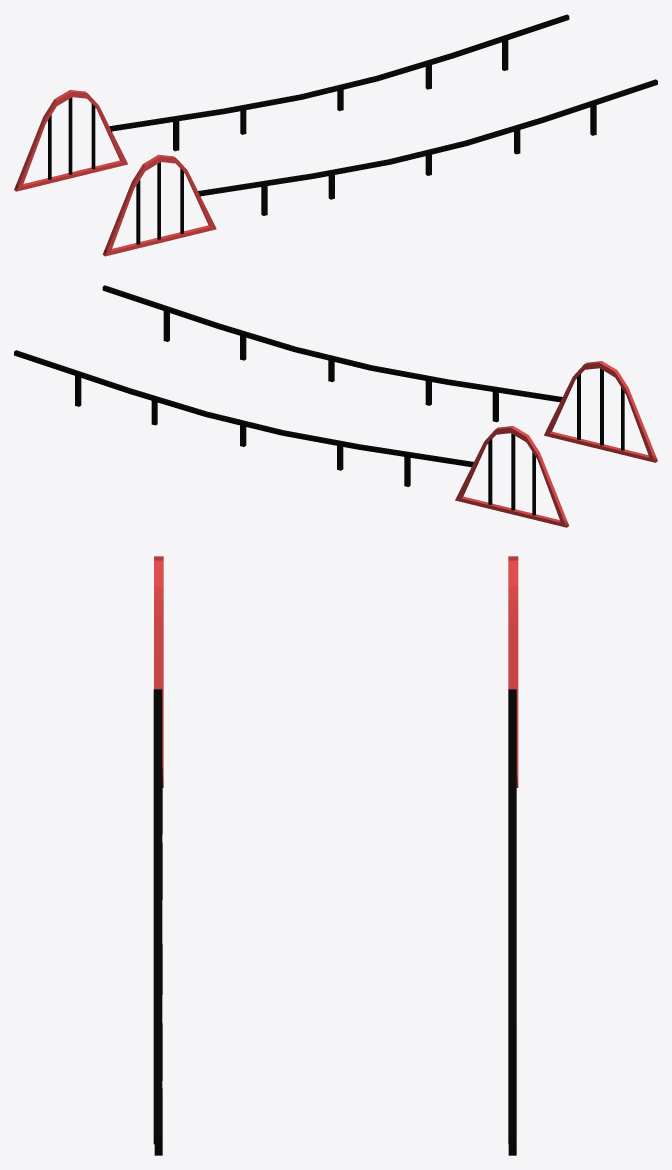
File: bridgeLow.fbx
3 renders of one model, top to bottom at view 1: azimuth 30°, elevation 25°; view 2: azimuth 150°, elevation 25°; view 3: azimuth 270°, elevation 25°, orthographic. The views are drawn at different scales.
Visible parts, largest first — view 1: pCube29; view 2: pCube29; view 3: pCube29.
Part boxes in pixels (left/top/right/bottom): pCube29: left=14, top=14, right=657, bottom=256; pCube29: left=14, top=285, right=657, bottom=527; pCube29: left=153, top=556, right=518, bottom=1155.
Size of the model in its own units: 129 by 19.19 by 36.7.
